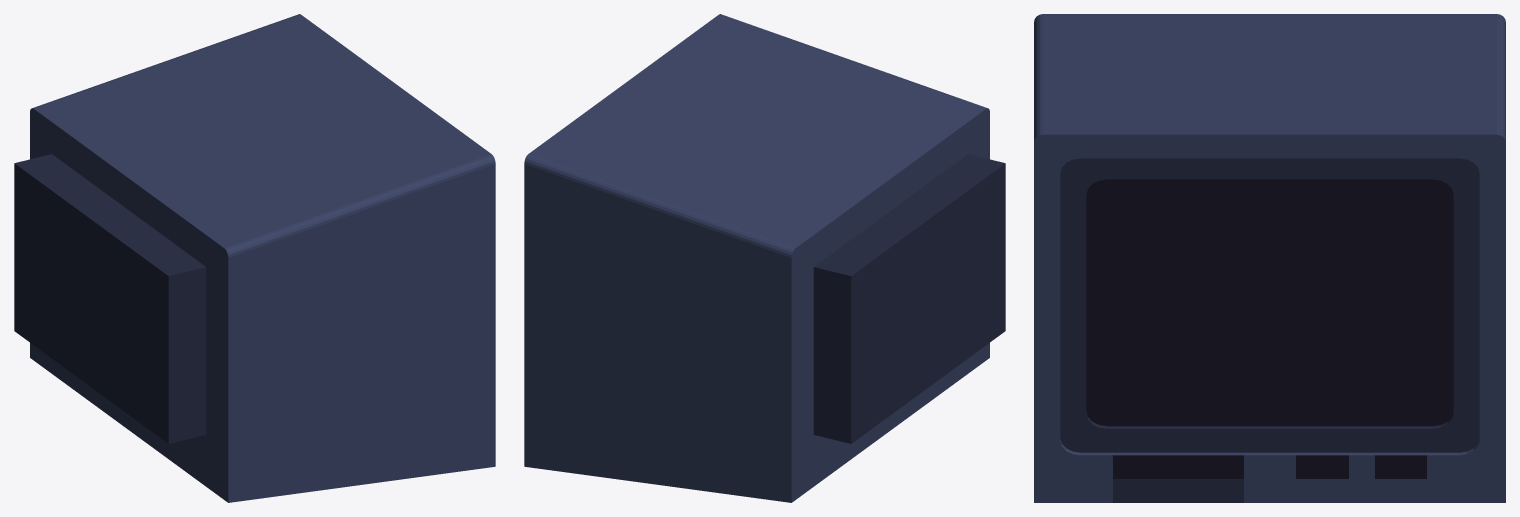
The picture shows the model from 3 angles, left to right: view 1: azimuth 30°, elevation 25°; view 2: azimuth 150°, elevation 25°; view 3: azimuth 270°, elevation 25°; orthographic projection. The views are drawn at different scales.
Parts seen in each view (by area): view 1: Cube; view 2: Cube; view 3: Cube.
Part boxes in pixels (x1=…): Cube: x1=14, y1=14, x2=495, y2=502; Cube: x1=524, y1=14, x2=1005, y2=502; Cube: x1=1034, y1=14, x2=1505, y2=502.
Bounding box in the file's own units: 0.4056 × 0.3937 × 0.4572.
Materials: 4 (1 with a texture image).
